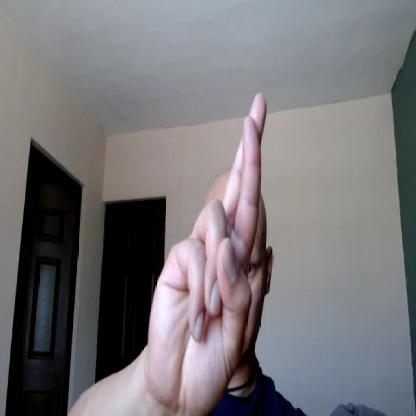R: (148, 91, 269, 406)
